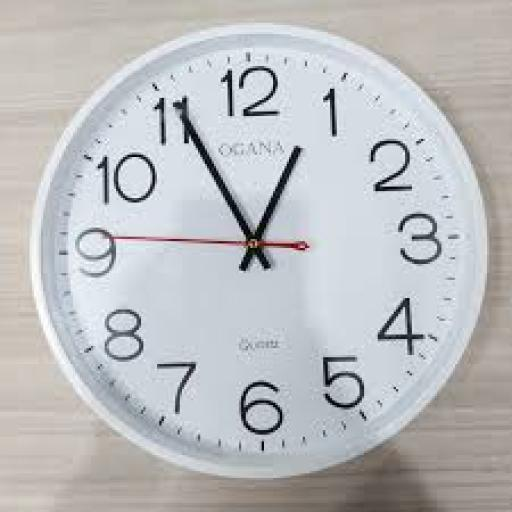jam dinding: (30, 20, 490, 480)
